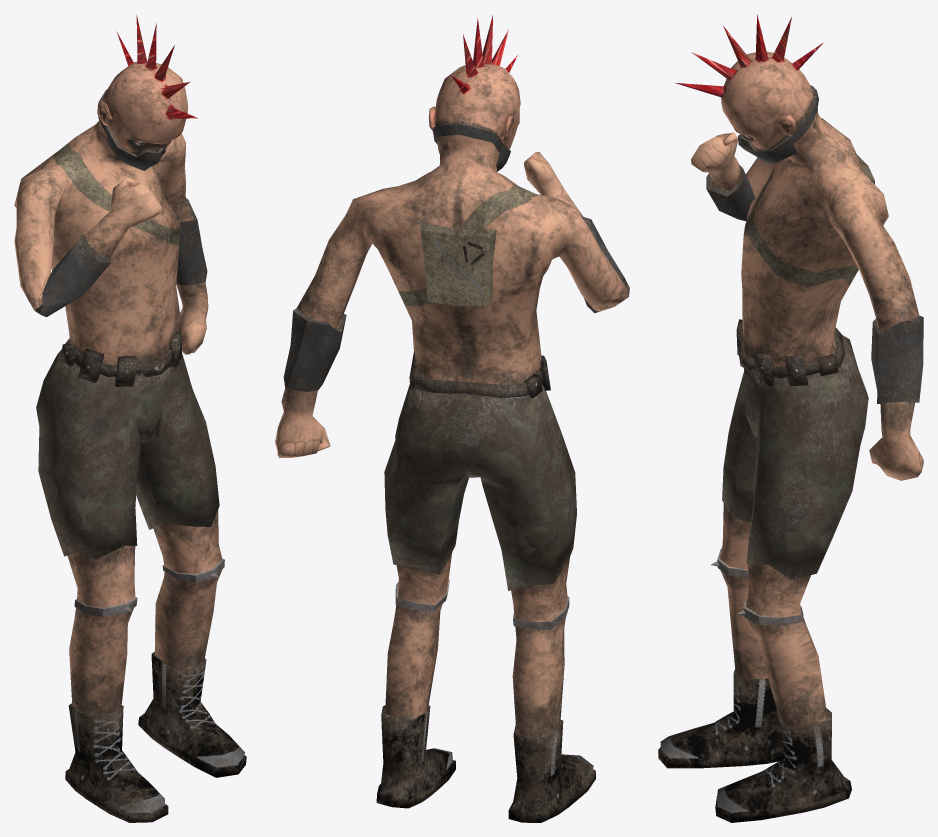
Rendered from Anim_perder_1_npc2.0046.obj.
3 renders of one model, left to right at view 1: azimuth 30°, elevation 25°; view 2: azimuth 150°, elevation 25°; view 3: azimuth 270°, elevation 25°, orthographic. The views are drawn at different scales.
Parts seen in each view (by area): view 1: polySurface1; view 2: polySurface1; view 3: polySurface1.
Boxes of the visible parts, x1,y1,x2,y2 form: polySurface1: (14,15,246,822); polySurface1: (275,15,629,822); polySurface1: (658,14,923,822).
Bounding box in the file's own units: 3.49 × 9.87 × 3.08.
